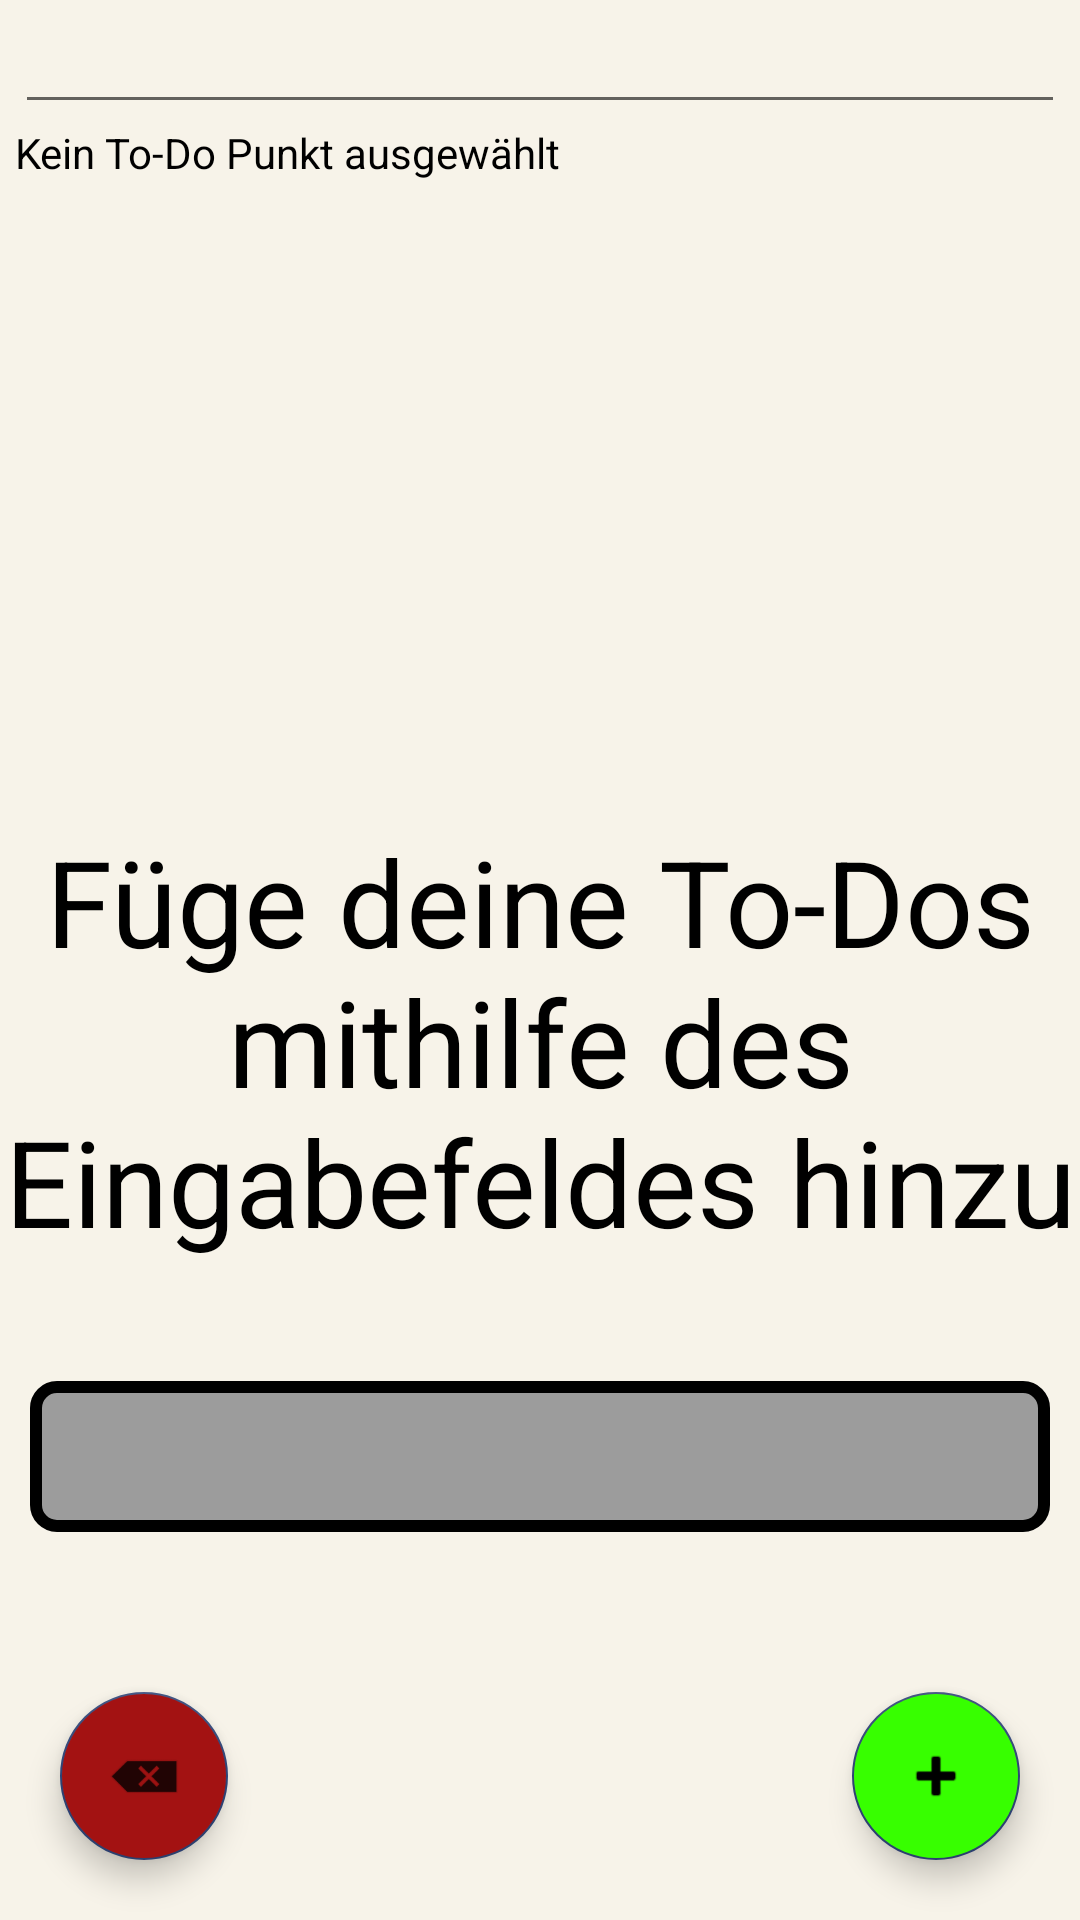

Locate icon controls on the screen. Image size 1080px x 1920px, boxes as (x1, y1, x2, y2).
add: (852, 1692, 1020, 1860)
delete: (60, 1692, 228, 1860)
